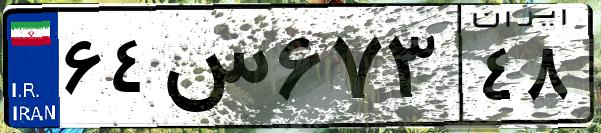3: (385, 28, 445, 110)
4: (475, 38, 525, 113), (110, 28, 158, 98)
6: (270, 28, 330, 110), (57, 26, 110, 100)
7: (330, 28, 385, 110)
8: (525, 38, 570, 115)
س: (158, 20, 270, 120)
